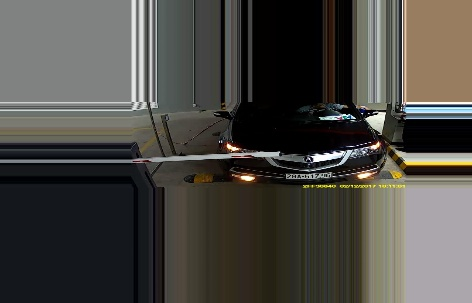plate: (284, 171, 333, 180)
